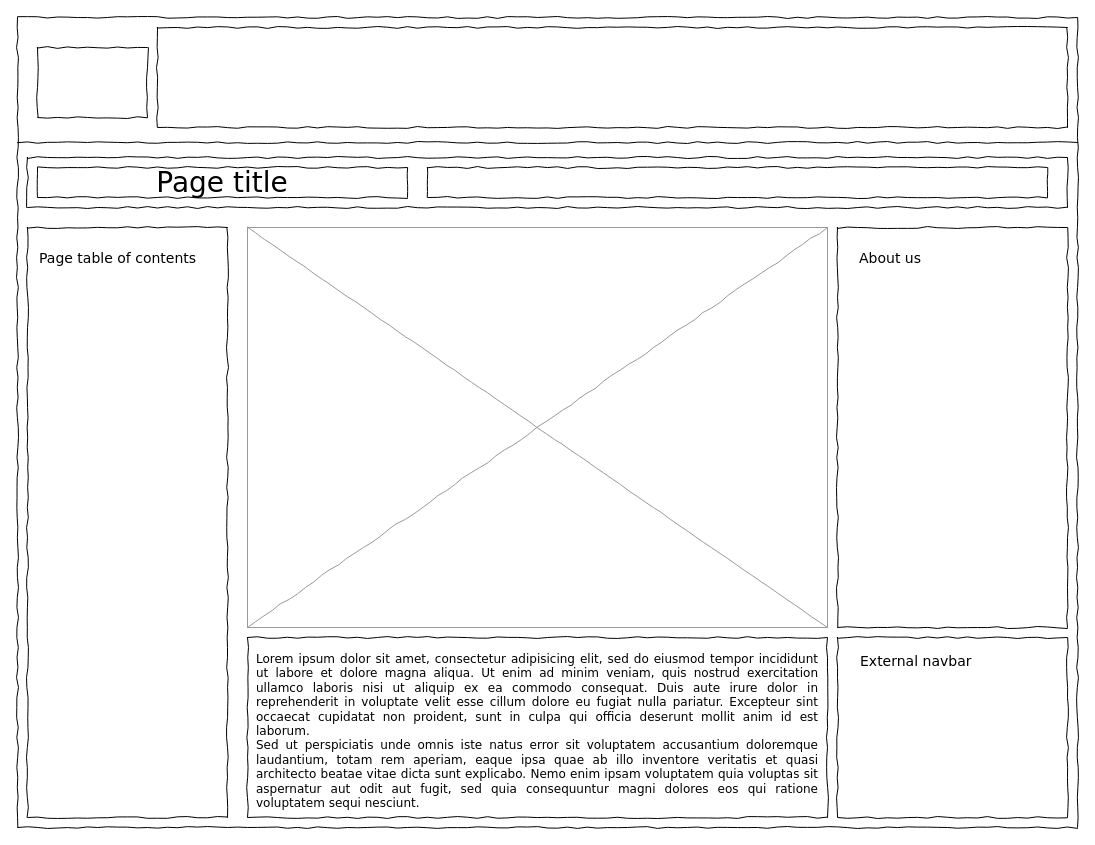
This 1095x845 diagram has some shape labels left out. The centre of each missing label's shape, as x and y in pixels:
CSS logo/home button: point 92,82
Header image/design: point 612,77
Navbar: point 737,182
